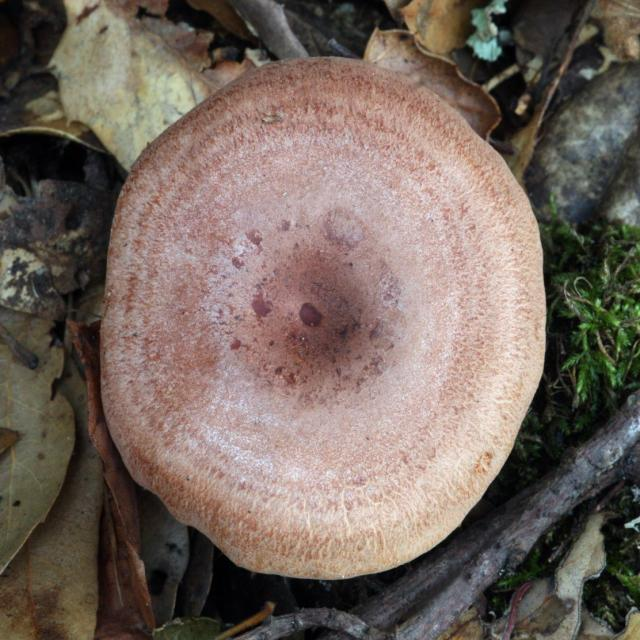Armillaria mellea: (100, 57, 548, 581)
